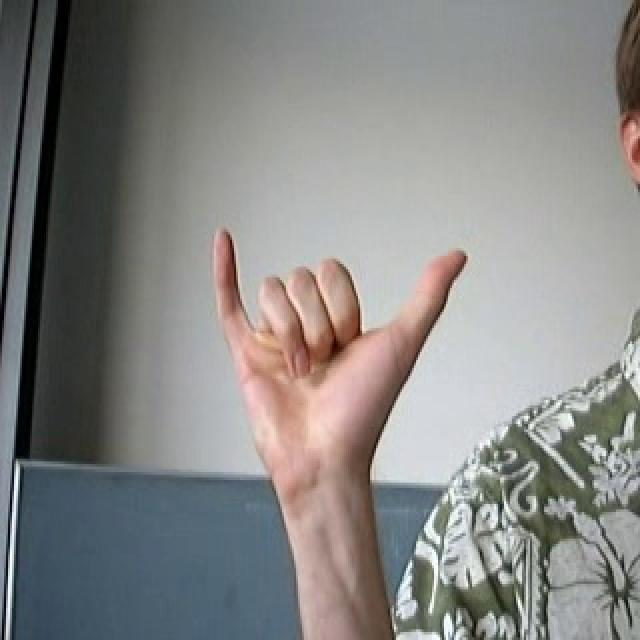Y: (180, 188, 476, 482)
